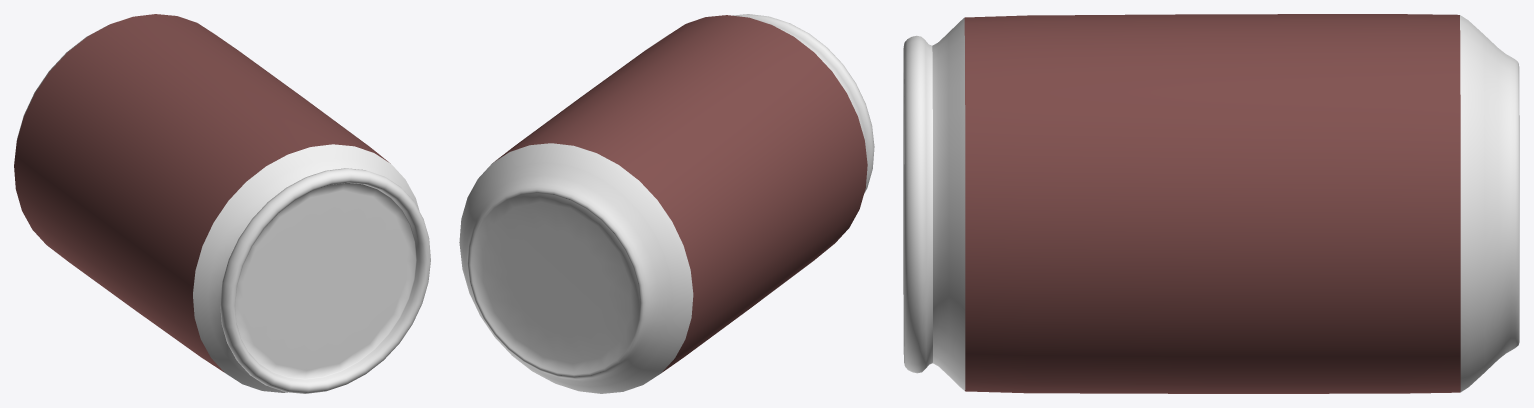
Rendered from Soda.dae.
3 renders of one model, left to right at view 1: azimuth 30°, elevation 25°; view 2: azimuth 150°, elevation 25°; view 3: azimuth 270°, elevation 25°, orthographic. The views are drawn at different scales.
Visible parts, largest first — view 1: Label, Cap; view 2: Label, Cap; view 3: Label, Cap.
Part boxes in pixels (left/top/right/bottom): Label: left=14, top=14, right=390, bottom=372; Cap: left=16, top=25, right=430, bottom=393; Label: left=493, top=15, right=867, bottom=372; Cap: left=459, top=14, right=874, bottom=393; Label: left=964, top=14, right=1460, bottom=393; Cap: left=903, top=15, right=1519, bottom=392.
Size of the model in its own units: 143 by 143 by 231.
